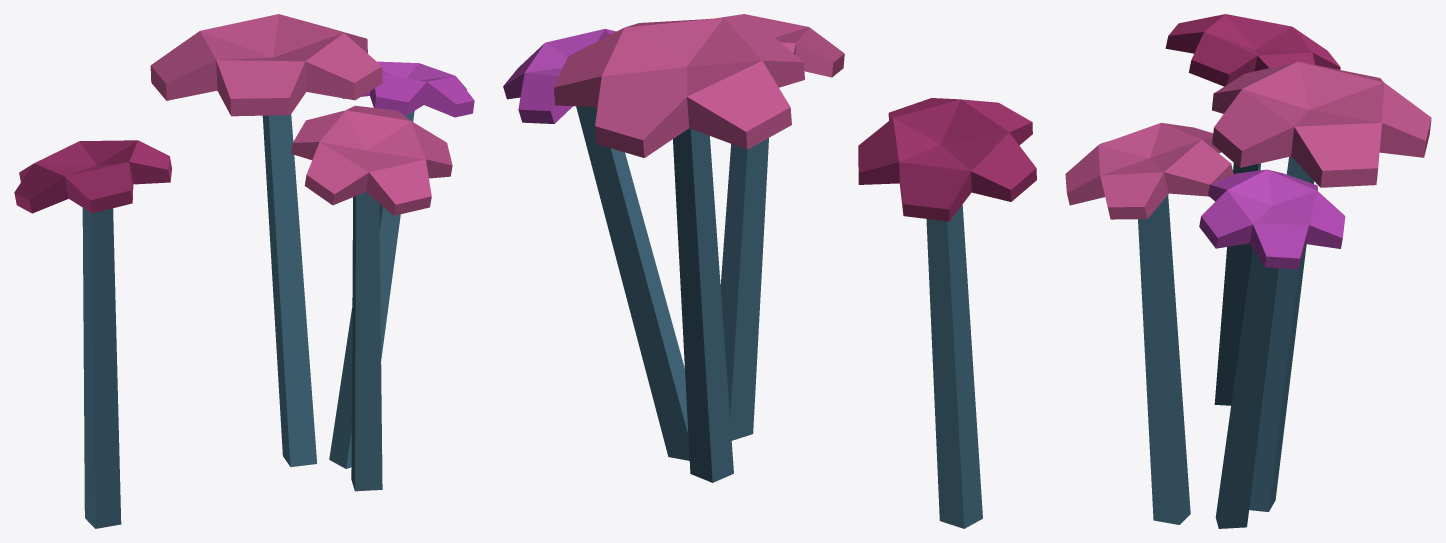
File: SM_Env_Flowers_03.fbx
The picture shows the model from 3 angles, left to right: view 1: azimuth 30°, elevation 25°; view 2: azimuth 150°, elevation 25°; view 3: azimuth 270°, elevation 25°; orthographic projection. The views are drawn at different scales.
Parts seen in each view (by area): view 1: SM_Env_Flowers_03; view 2: SM_Env_Flowers_03; view 3: SM_Env_Flowers_03.
Part boxes in pixels (left/top/right/bottom): SM_Env_Flowers_03: left=14, top=14, right=474, bottom=528; SM_Env_Flowers_03: left=503, top=14, right=1036, bottom=528; SM_Env_Flowers_03: left=1065, top=14, right=1431, bottom=528.
Size of the model in its own units: 0.5987 by 0.5127 by 0.4103.
Materials: 1 (1 with a texture image).
